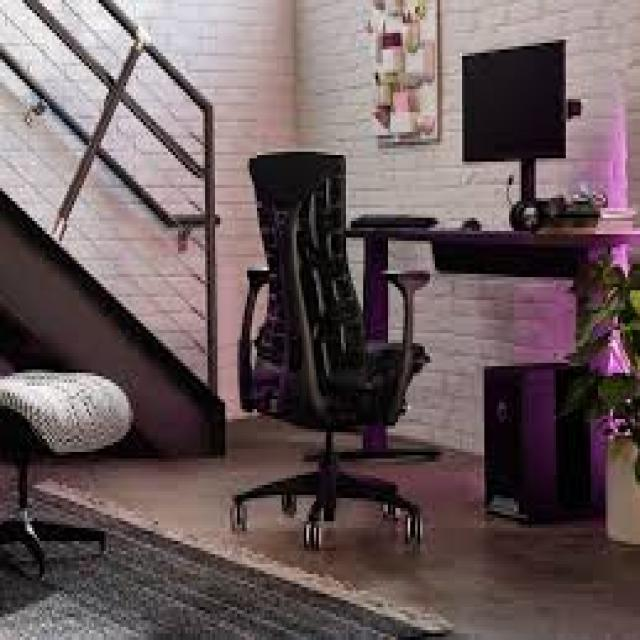chair: (178, 133, 444, 587)
